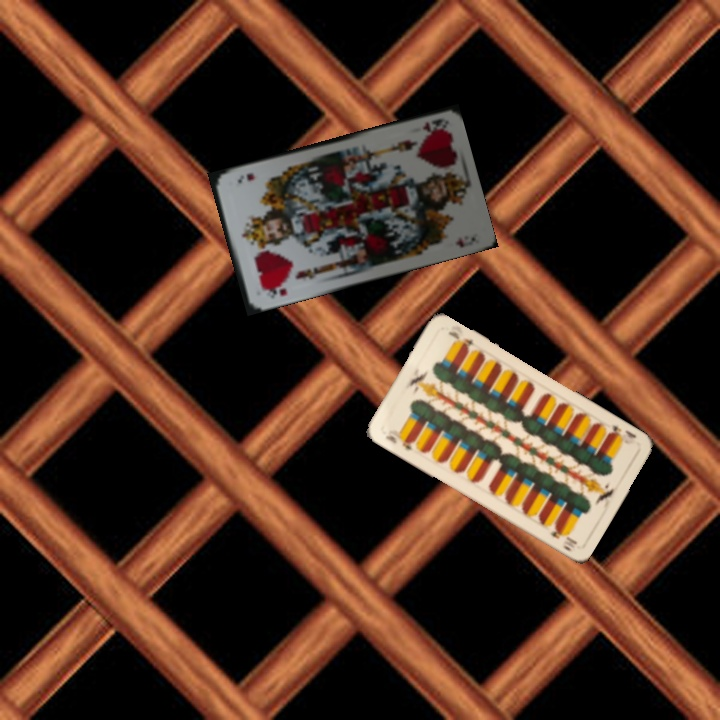E10: (604, 421, 639, 445), (381, 431, 416, 453)
HK: (258, 281, 289, 301), (419, 115, 446, 135)
